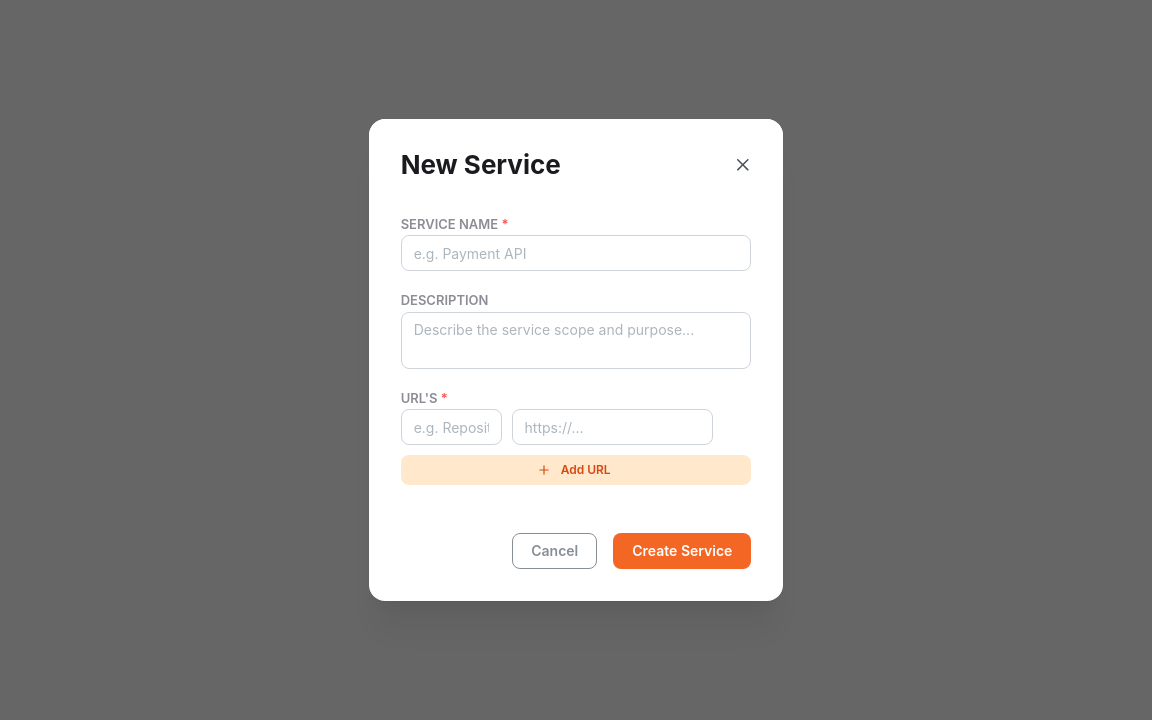
ServicesModalCreate › Add URL adds a new row
Click the button with test id "add-url-btn": {"x": 576, "y": 470} 401,455 -> 751,485
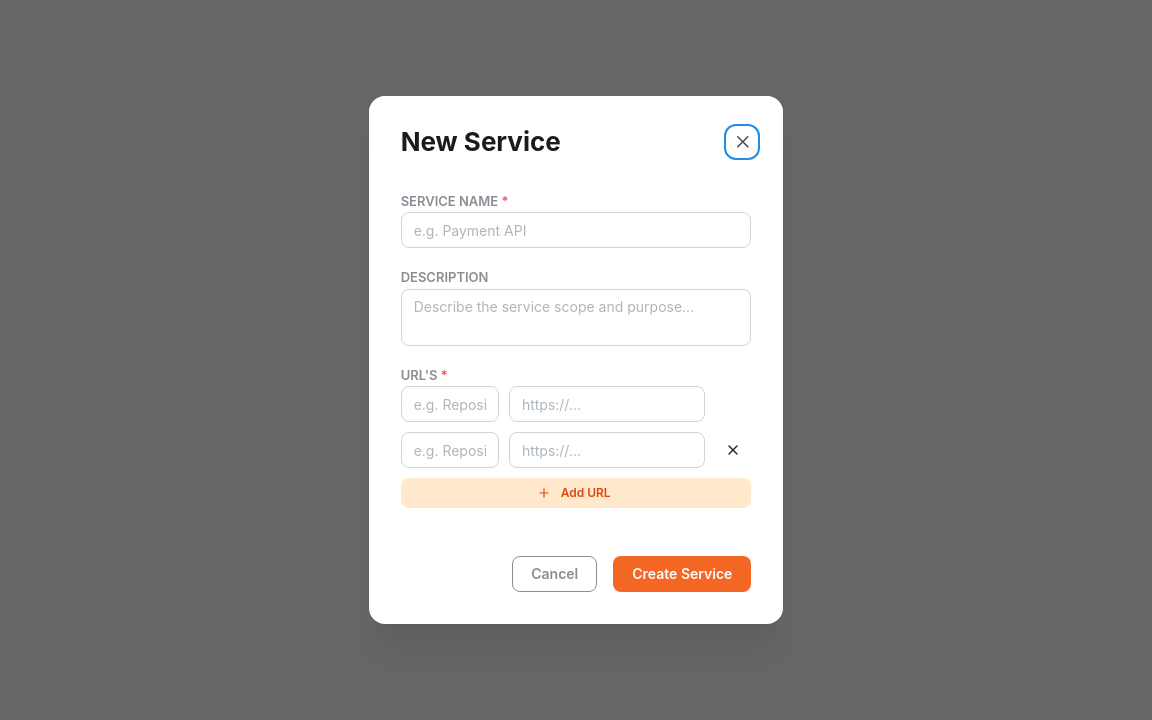
Expected: the field with test id "url-nombre-1" is shown, 401,432 -> 499,468
Expected: the button with test id "remove-url-1" is shown, 715,432 -> 751,468
